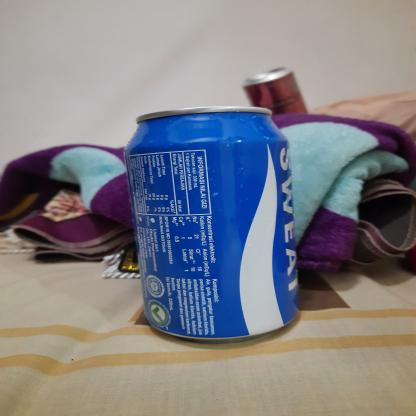bottle: (123, 101, 304, 346)
